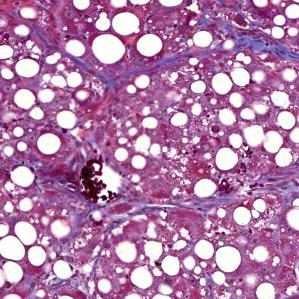fibrosis: (215, 20, 287, 65)
